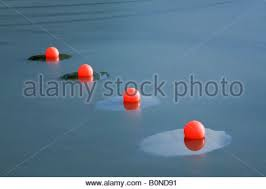buoy: (184, 120, 205, 141), (123, 88, 140, 104), (77, 64, 93, 78), (46, 47, 59, 59)
